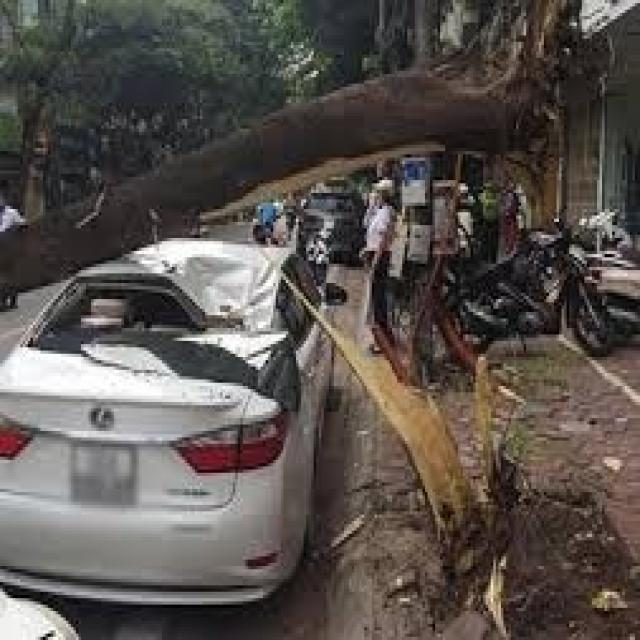fallen_object: (0, 0, 625, 322)
